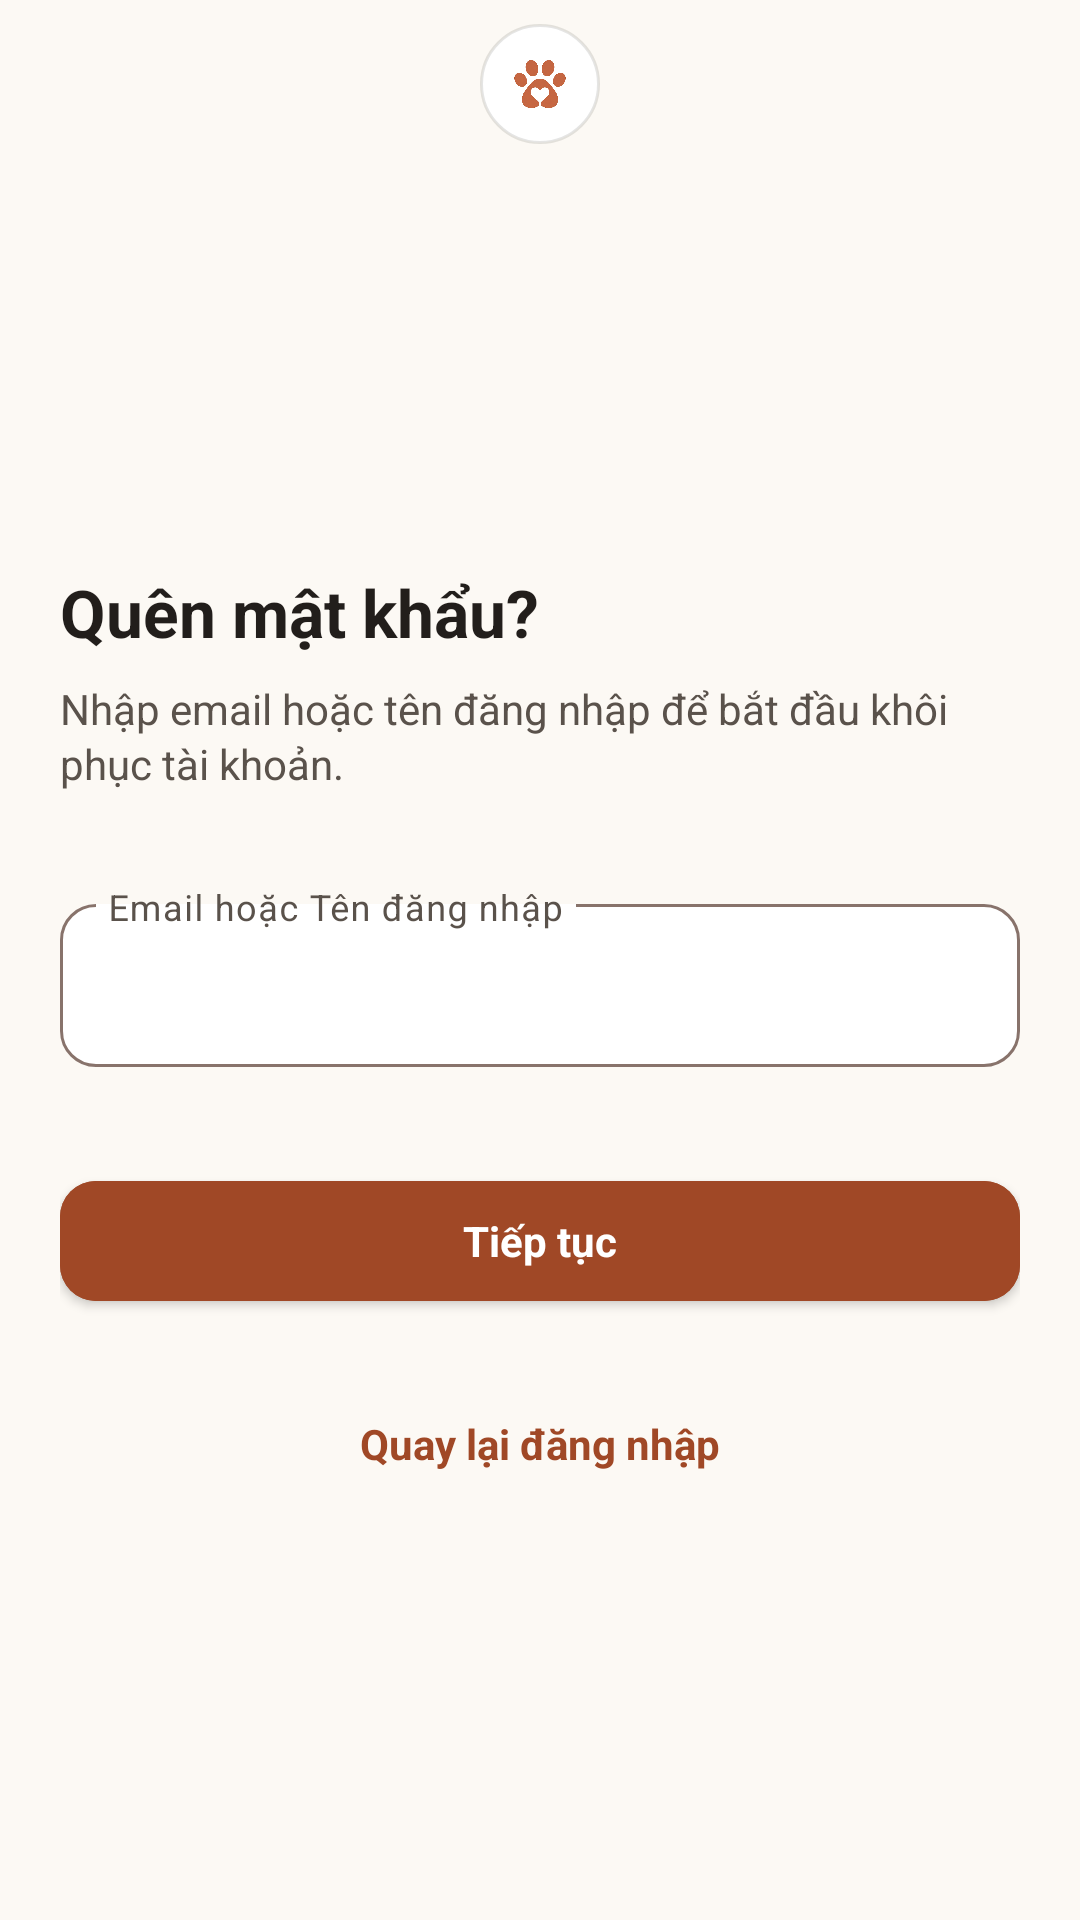

Icon bounding boxes for this 1080x1920 phone screenshot, format (x1, y1, x2, y2):
PetStoreApp Paw Icon: (514, 60, 566, 108)
